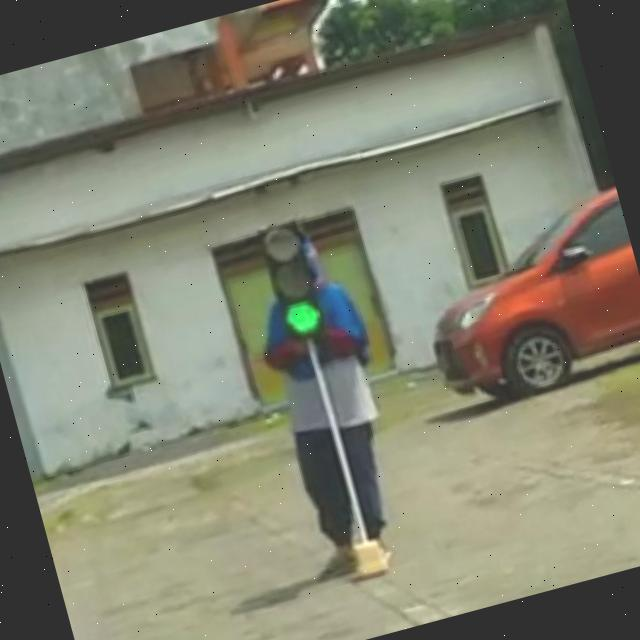green_light: (257, 218, 326, 342)
